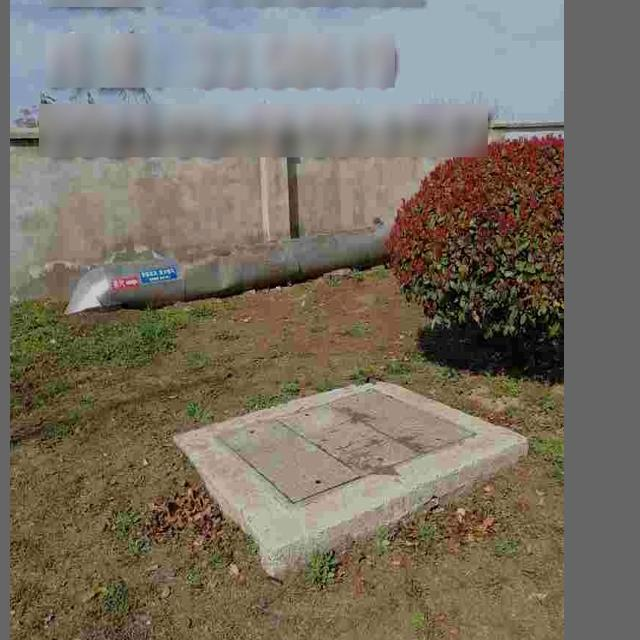good: (211, 387, 479, 509)
